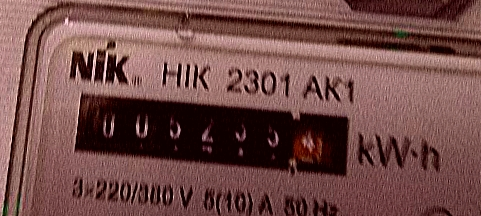0: (130, 106, 154, 141), (98, 107, 119, 140)
2: (196, 110, 221, 146)
3: (228, 111, 256, 146)
4: (297, 118, 322, 156)
5: (262, 113, 288, 152), (164, 108, 187, 142)
screen: (57, 74, 366, 191)
